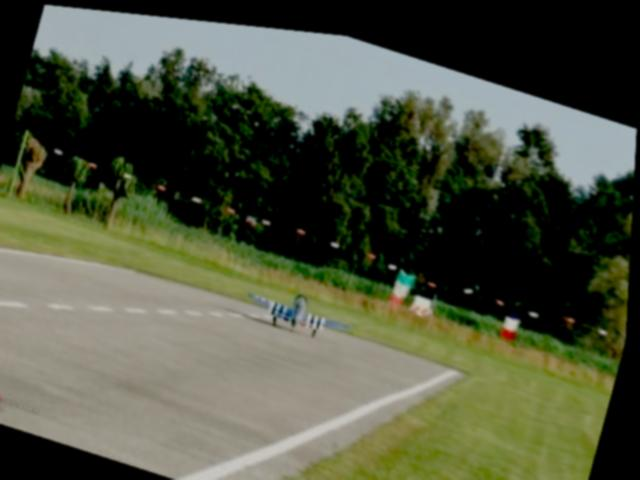uav: (237, 264, 361, 346)
